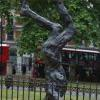Statue: (20, 6, 80, 100)
